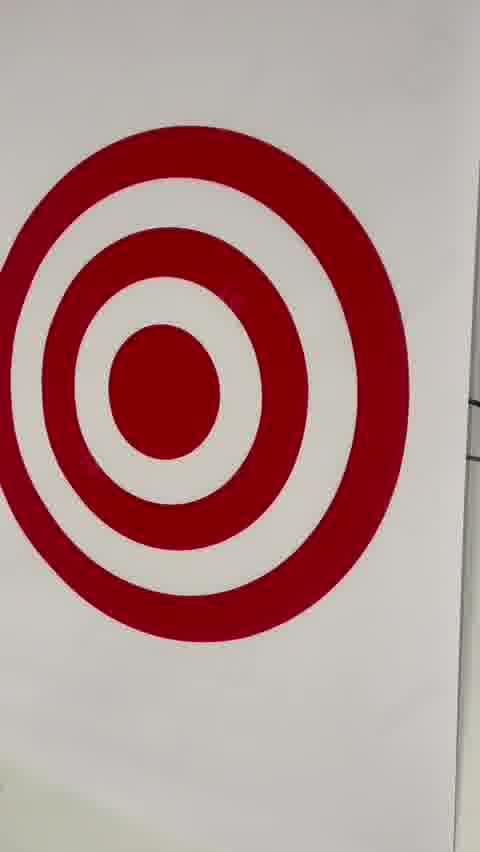target_red: (0, 120, 412, 644)
